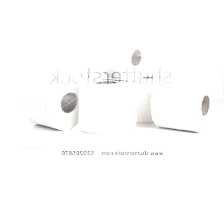tissue: (146, 75, 217, 134), (16, 70, 82, 133), (81, 26, 150, 86), (74, 75, 136, 137), (131, 73, 160, 126)
